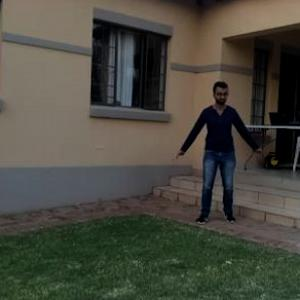land: (172, 87, 261, 229)
